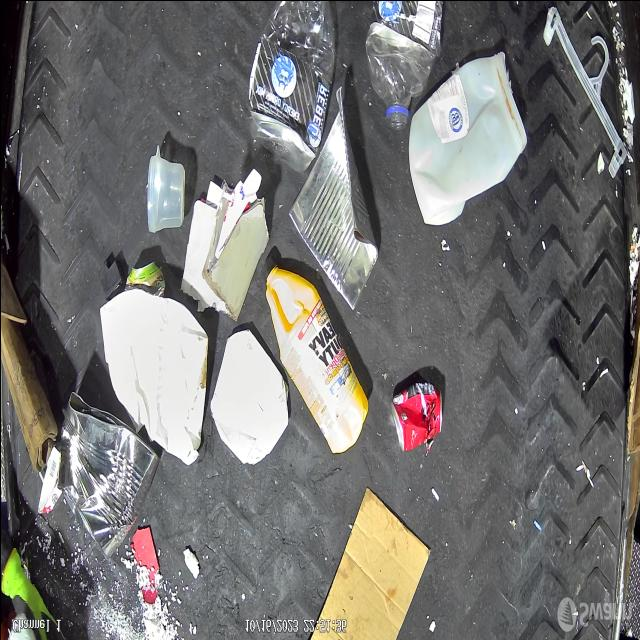can: (56, 391, 160, 559), (390, 382, 442, 454), (128, 261, 164, 292)
milk_jug: (408, 49, 526, 224)
non_white_jug: (260, 256, 364, 457)
plastic_bottle: (248, 0, 336, 174), (364, 0, 442, 128)
